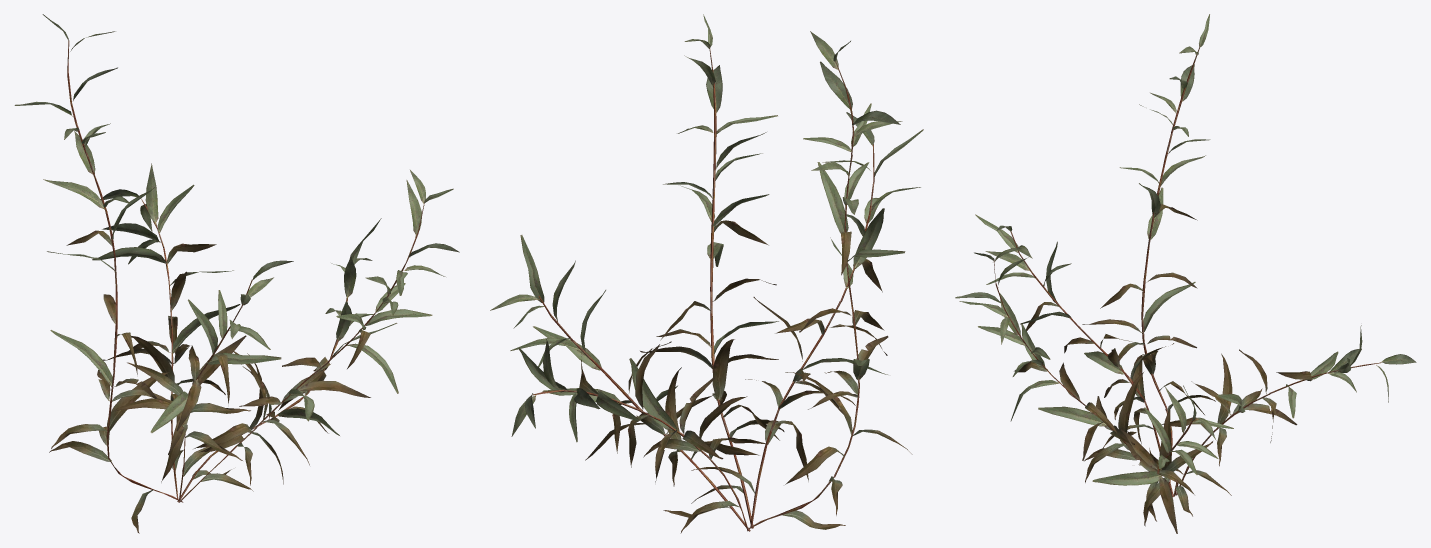
The model's file is shrub_02_a.gltf.lod.glb.
The picture shows the model from 3 angles, left to right: view 1: azimuth 30°, elevation 25°; view 2: azimuth 150°, elevation 25°; view 3: azimuth 270°, elevation 25°; orthographic projection. The views are drawn at different scales.
Parts seen in each view (by area): view 1: shrub_02_a; view 2: shrub_02_a; view 3: shrub_02_a.
Part boxes in pixels (x1,y1,x2,y2): shrub_02_a: (14,14,459,533); shrub_02_a: (490,14,923,533); shrub_02_a: (955,14,1416,533).
Size of the model in its own units: 1.31 by 1.69 by 1.63.
Materials: 1 (1 with a texture image).
